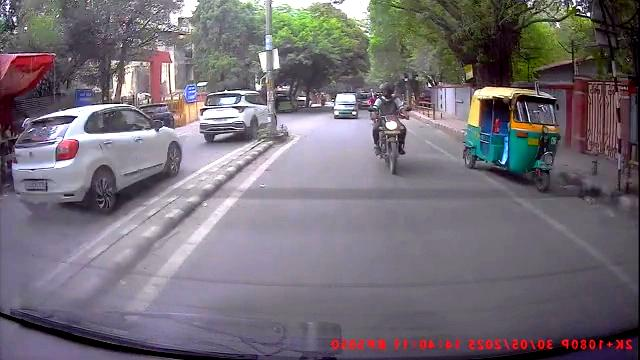motorcycle_with_helmet: (370, 80, 409, 176)
